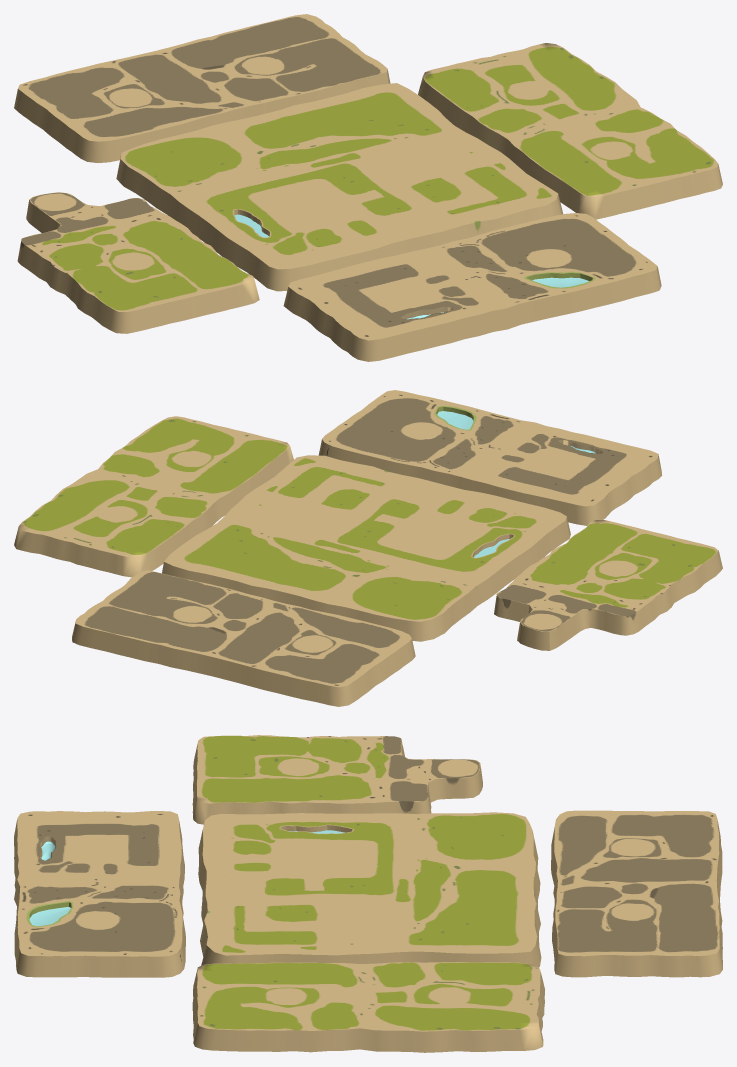
Rendered from Lands.fbx.
3 views of the same model, one above another, from view 1: azimuth 30°, elevation 25°; view 2: azimuth 150°, elevation 25°; view 3: azimuth 270°, elevation 25° (orthographic). The views are drawn at different scales.
Visible parts, largest first — view 1: Main Tile Ground, Tax Ground, Village Ground, Field Ground, Port Ground; view 2: Main Tile Ground, Field Ground, Village Ground, Tax Ground, Port Ground; view 3: Main Tile Ground, Village Ground, Tax Ground, Field Ground, Port Ground.
Boxes of the visible parts, box(x1,y1,x2,y2) form: Main Tile Ground: box(116, 83, 562, 291); Tax Ground: box(283, 213, 661, 361); Village Ground: box(418, 43, 722, 219); Field Ground: box(14, 14, 390, 162); Port Ground: box(17, 192, 259, 333); Main Tile Ground: box(162, 455, 570, 641); Field Ground: box(72, 570, 415, 706); Village Ground: box(14, 416, 293, 577); Tax Ground: box(318, 390, 662, 525); Port Ground: box(494, 520, 722, 650); Main Tile Ground: box(198, 812, 541, 966); Village Ground: box(192, 962, 544, 1052); Tax Ground: box(14, 811, 185, 977); Field Ground: box(551, 810, 722, 977); Port Ground: box(192, 735, 482, 824).
Bounding box in the file's own units: 11.87 × 0.3689 × 11.86.
